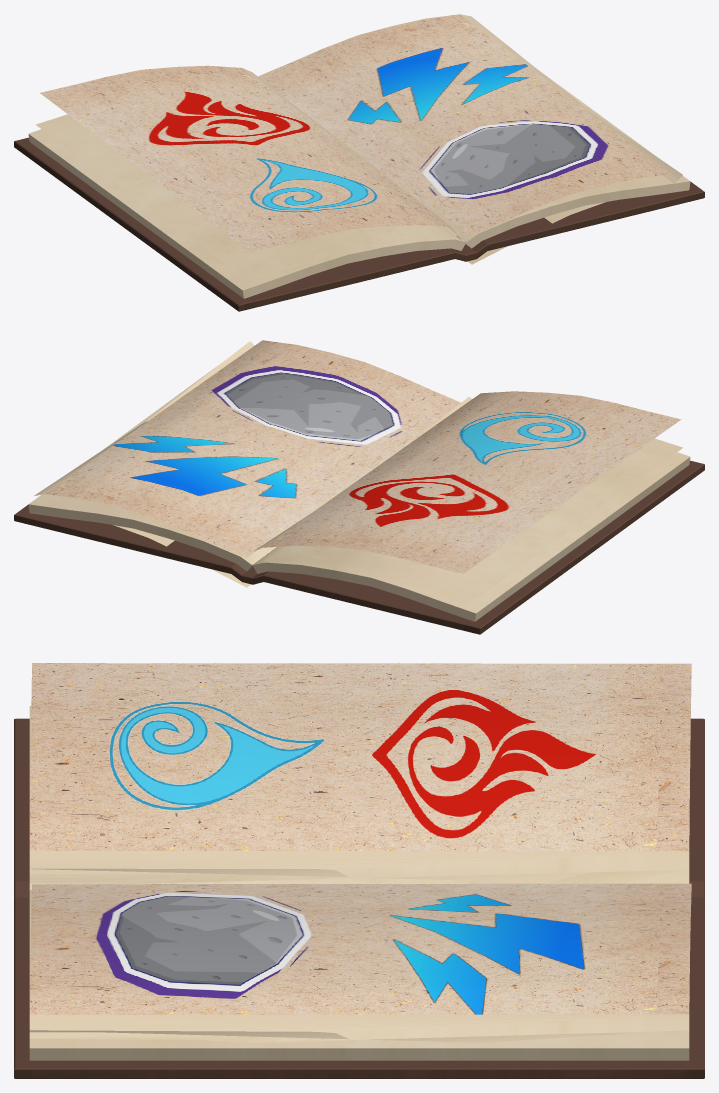
File: page1.glb
3 renders of one model, top to bottom at view 1: azimuth 30°, elevation 25°; view 2: azimuth 150°, elevation 25°; view 3: azimuth 270°, elevation 25°, orthographic. The views are drawn at different scales.
Visible parts, largest first — view 1: Object_4, Object_4.001, Object_2, Object_3; view 2: Object_4, Object_4.001, Object_3, Object_2; view 3: Object_4, Object_4.001, Object_2, Object_3.
Part boxes in pixels (bbox=[...]): Object_4: bbox=[36, 65, 463, 281]; Object_4.001: bbox=[258, 14, 682, 264]; Object_2: bbox=[14, 137, 704, 311]; Object_3: bbox=[28, 72, 690, 298]; Object_4: bbox=[253, 391, 682, 604]; Object_4.001: bbox=[34, 340, 460, 587]; Object_3: bbox=[28, 365, 690, 621]; Object_2: bbox=[14, 460, 704, 634]; Object_4: bbox=[29, 663, 691, 884]; Object_4.001: bbox=[29, 883, 691, 1042]; Object_2: bbox=[14, 718, 704, 1078]; Object_3: bbox=[29, 878, 689, 1060].
Size of the model in its own units: 6.87 by 0.9494 by 5.73.
Materials: 6 (6 with a texture image).
